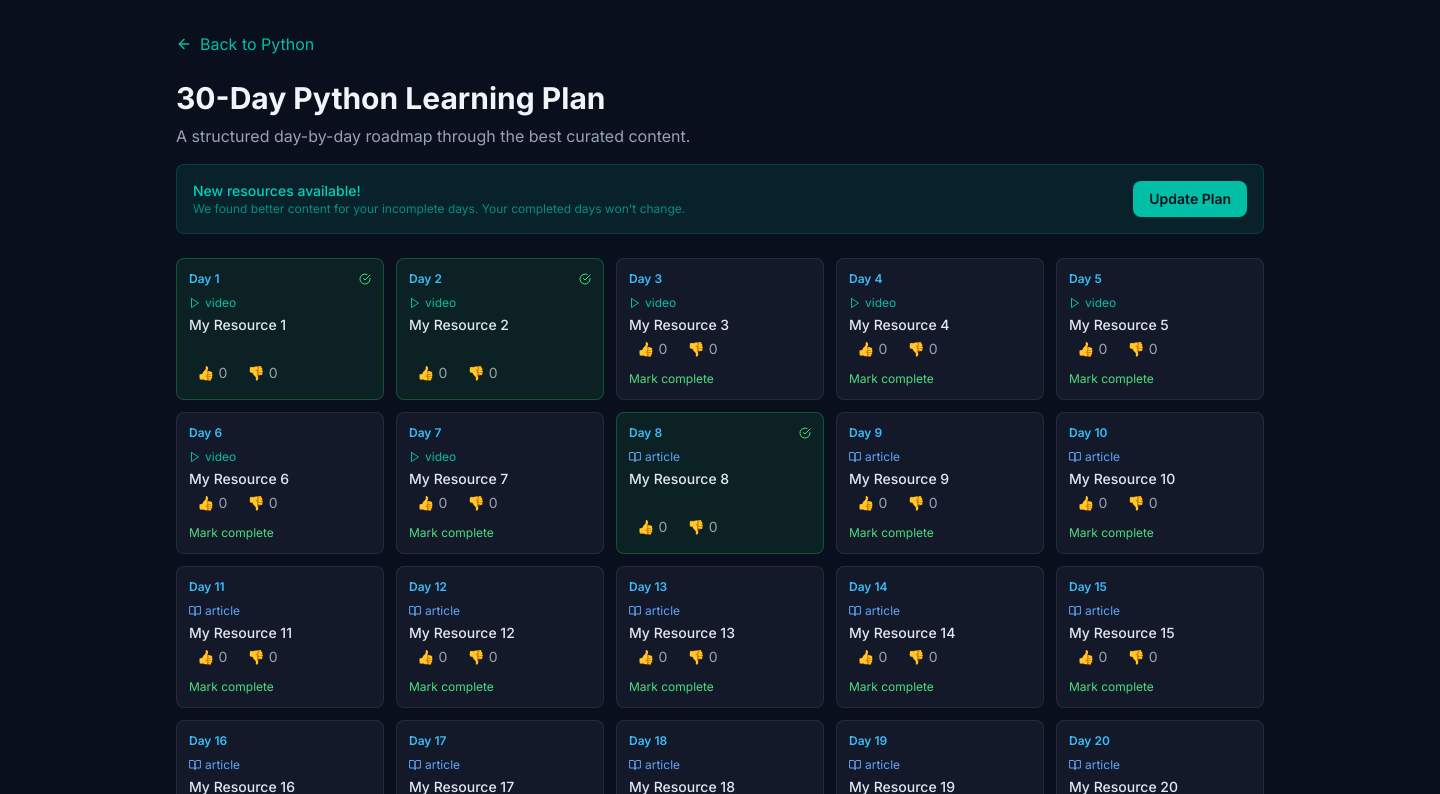
Test: LearningPlanPage › refresh banner › clicking Update Plan refreshes with preserved completed content
Click the button "Update Plan": (1190, 199) [1133,181,1247,217]
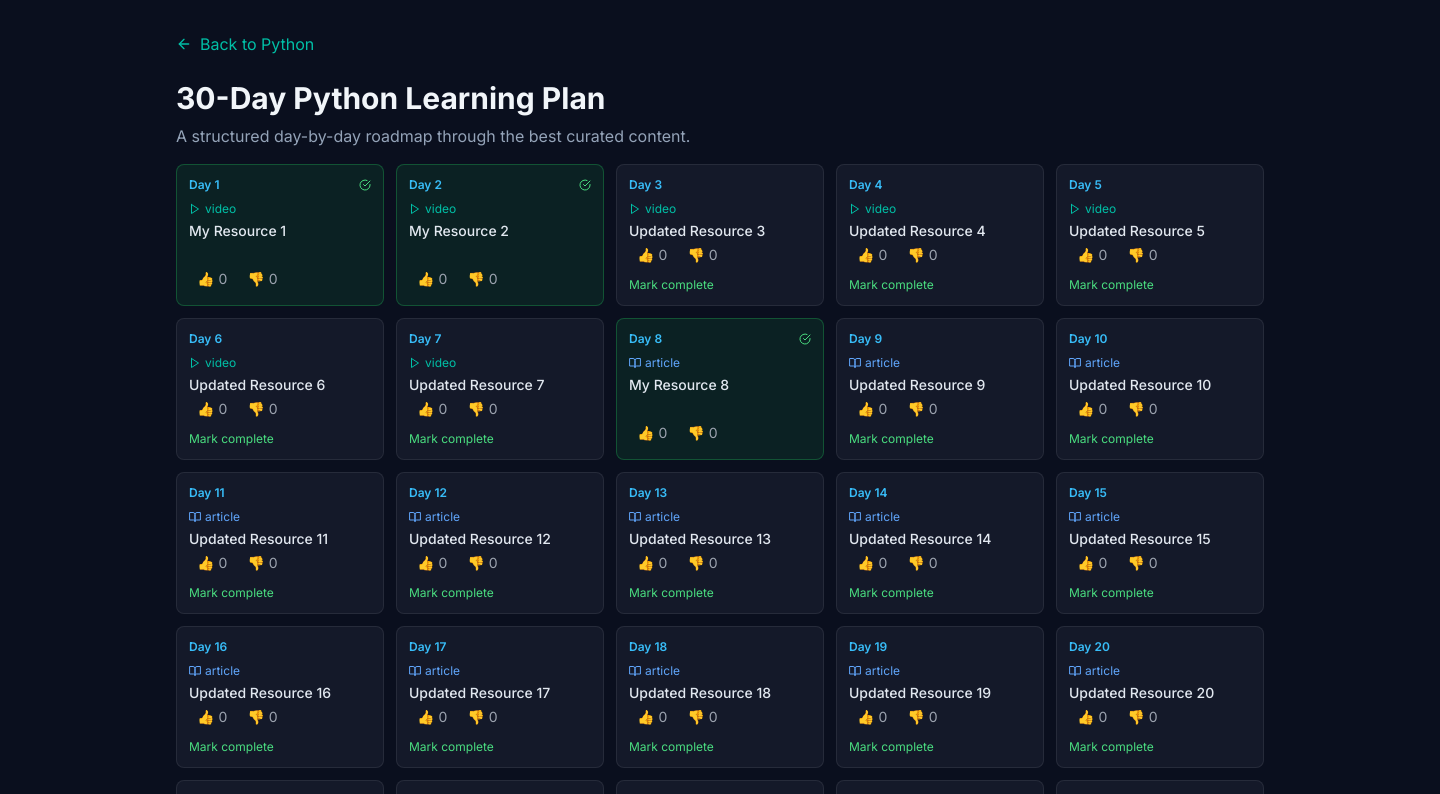
Expected: the link "My Resource 1" is shown, [189,222,286,239]
Expected: the link "Updated Resource 3" is shown, [629,222,765,239]
Expected: the text "New resources available!" is gone
